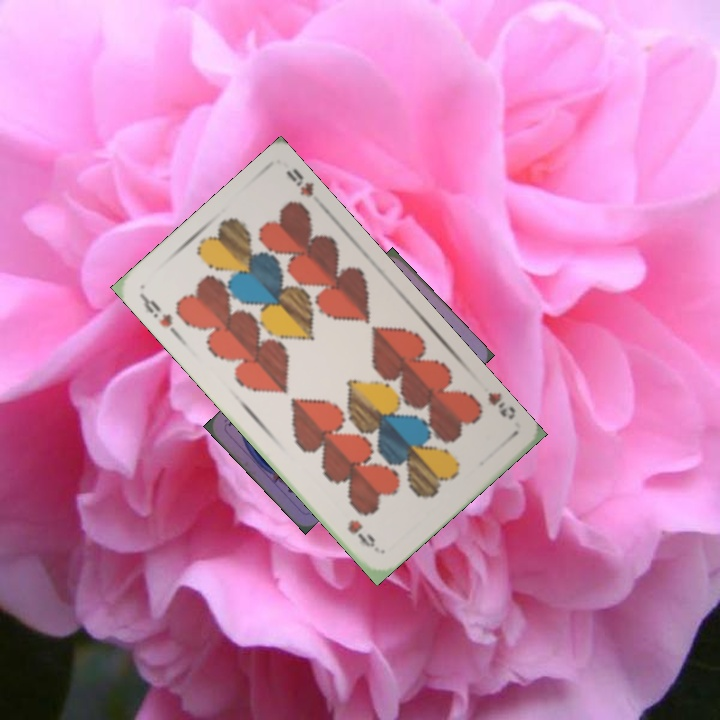H9: (137, 291, 175, 330), (484, 388, 518, 423)
